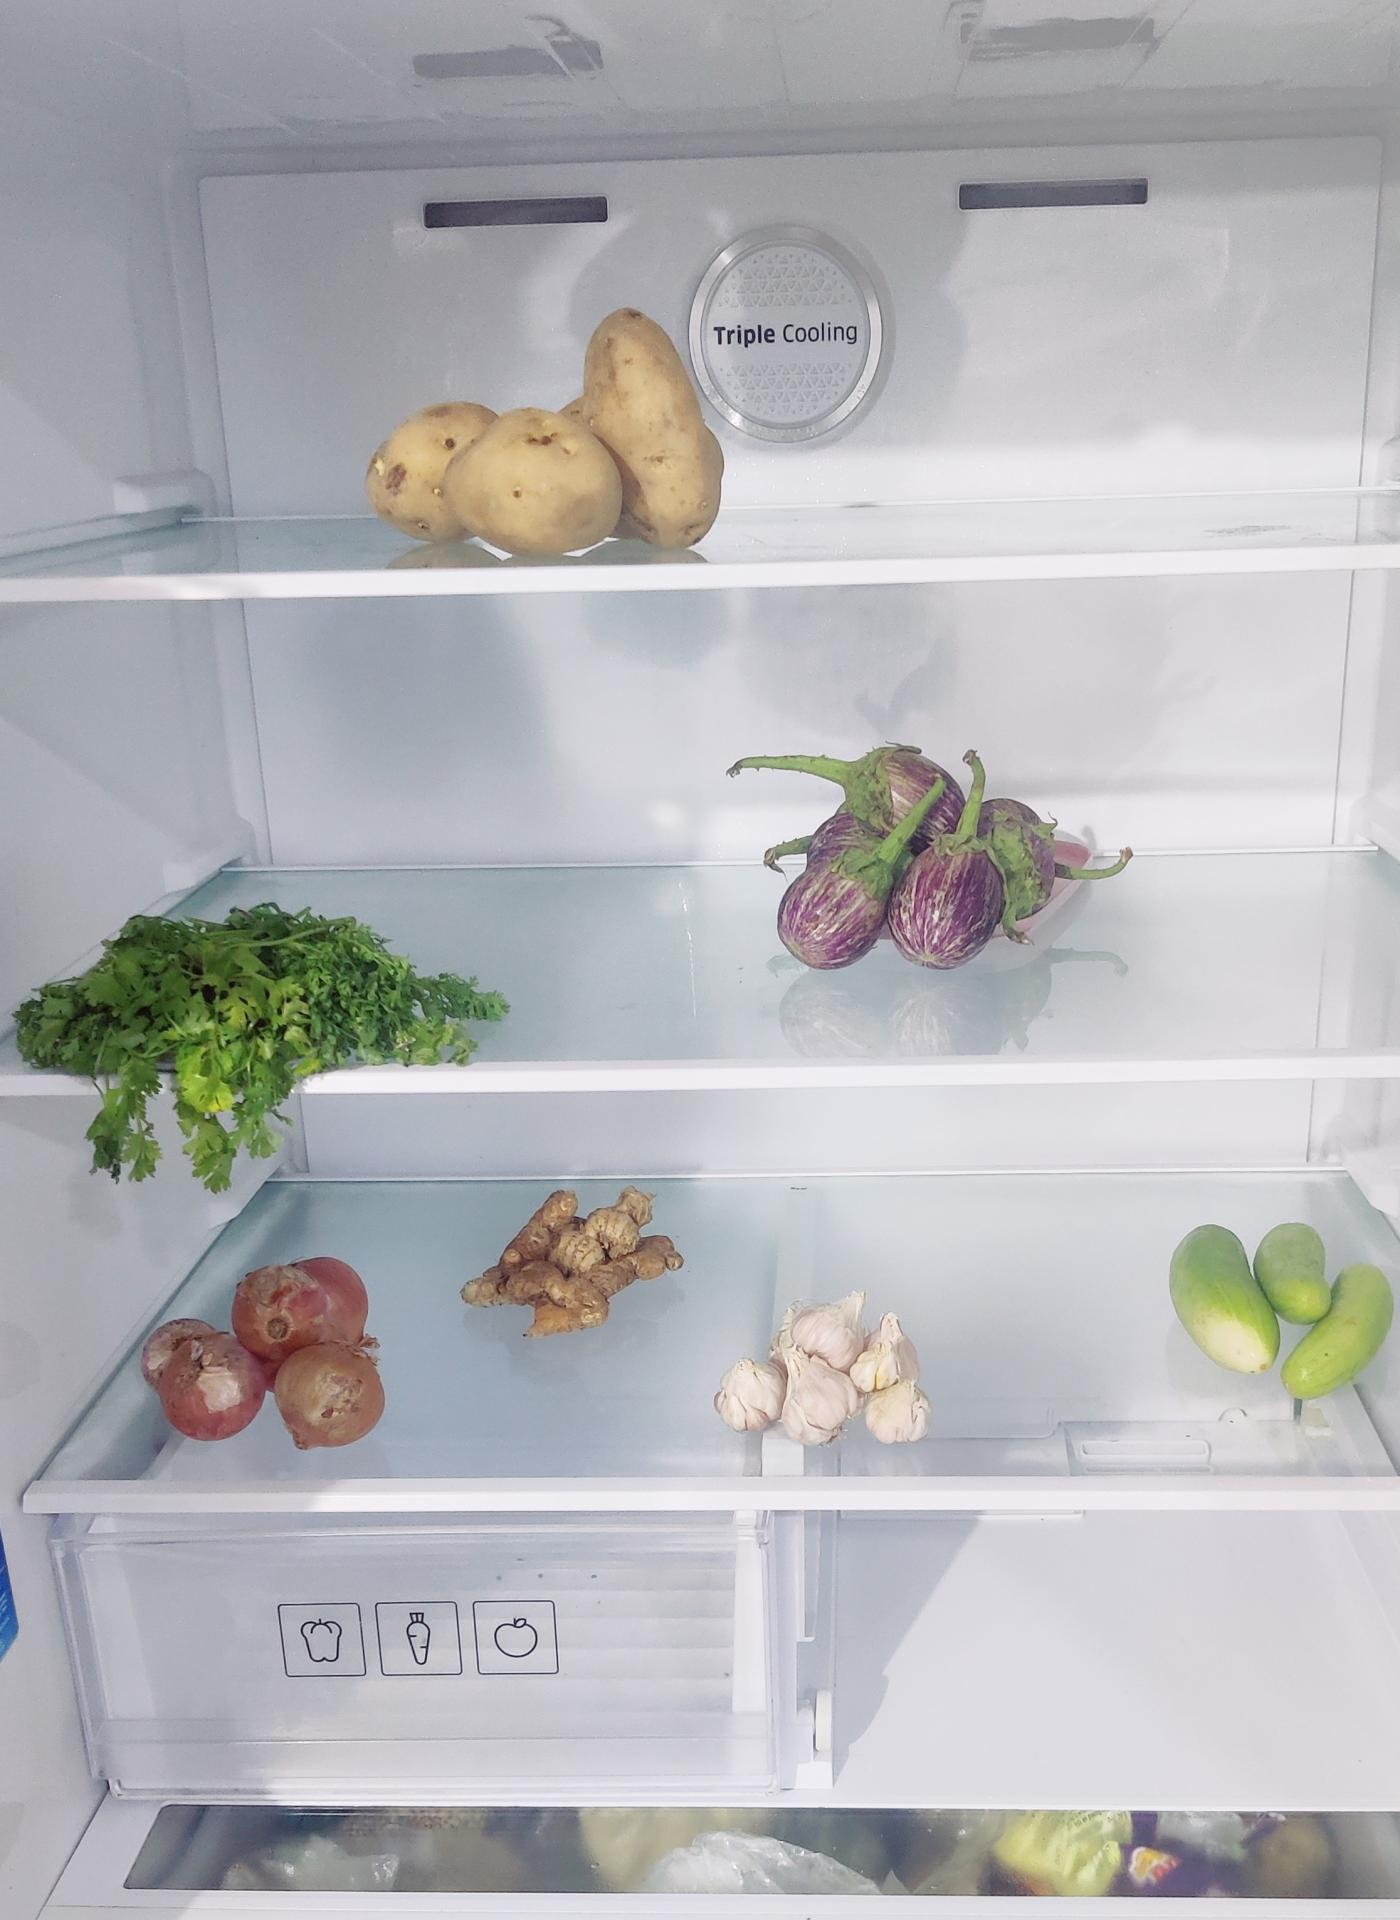brinjal: (778, 745, 1079, 972)
coriander: (21, 906, 496, 1128)
cucumber: (1164, 1212, 1396, 1403)
garlic: (714, 1294, 926, 1452)
ginger: (465, 1188, 683, 1339)
onion: (140, 1252, 395, 1456)
potato: (370, 304, 729, 547)
